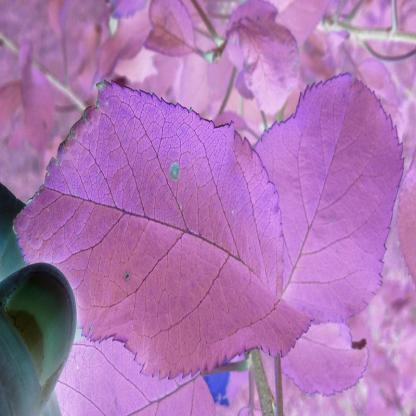Apple Scab Leaf: (15, 79, 298, 381)
